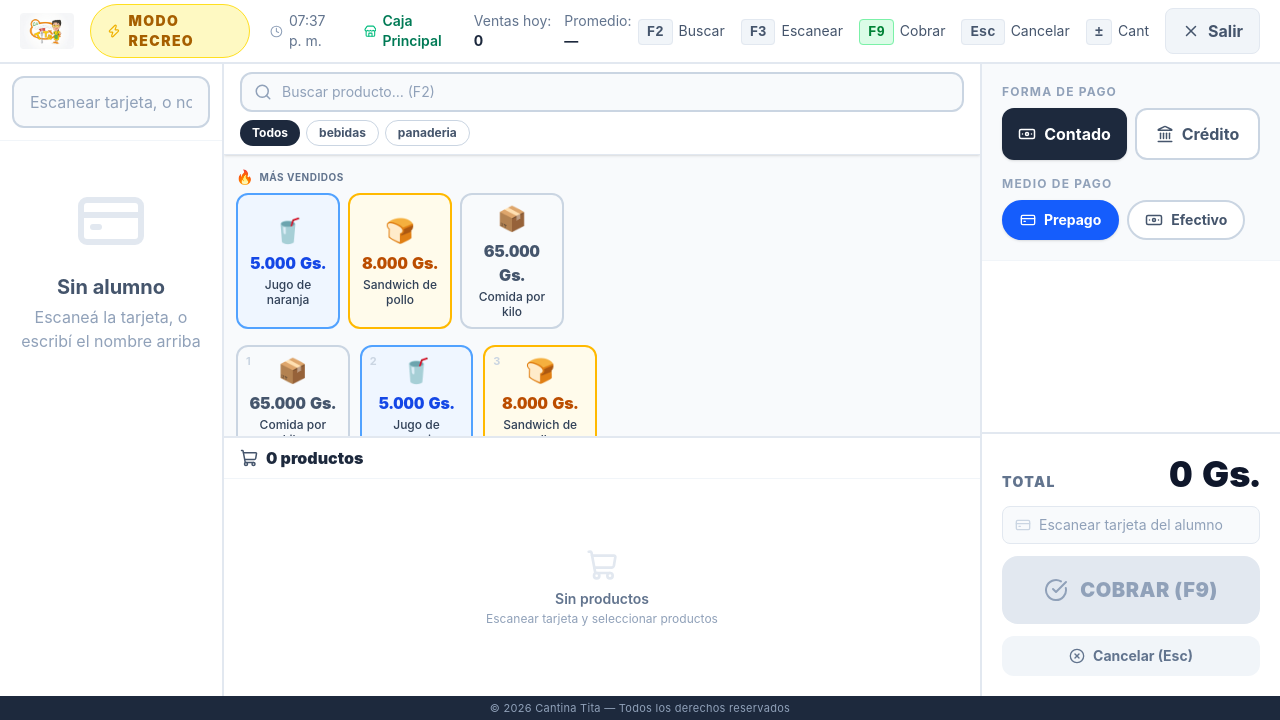
Test: ModoRecreo — productos por peso (Kg) › permite escribir una cantidad decimal ("0,250") y recalcula el total
Expected: the text "Jugo de naranja" below "Más vendidos" is shown, [265,277,311,307]
Click the button "📦 65.000 Gs. Comida por kilo" at (512, 261), box [460,193,564,329]
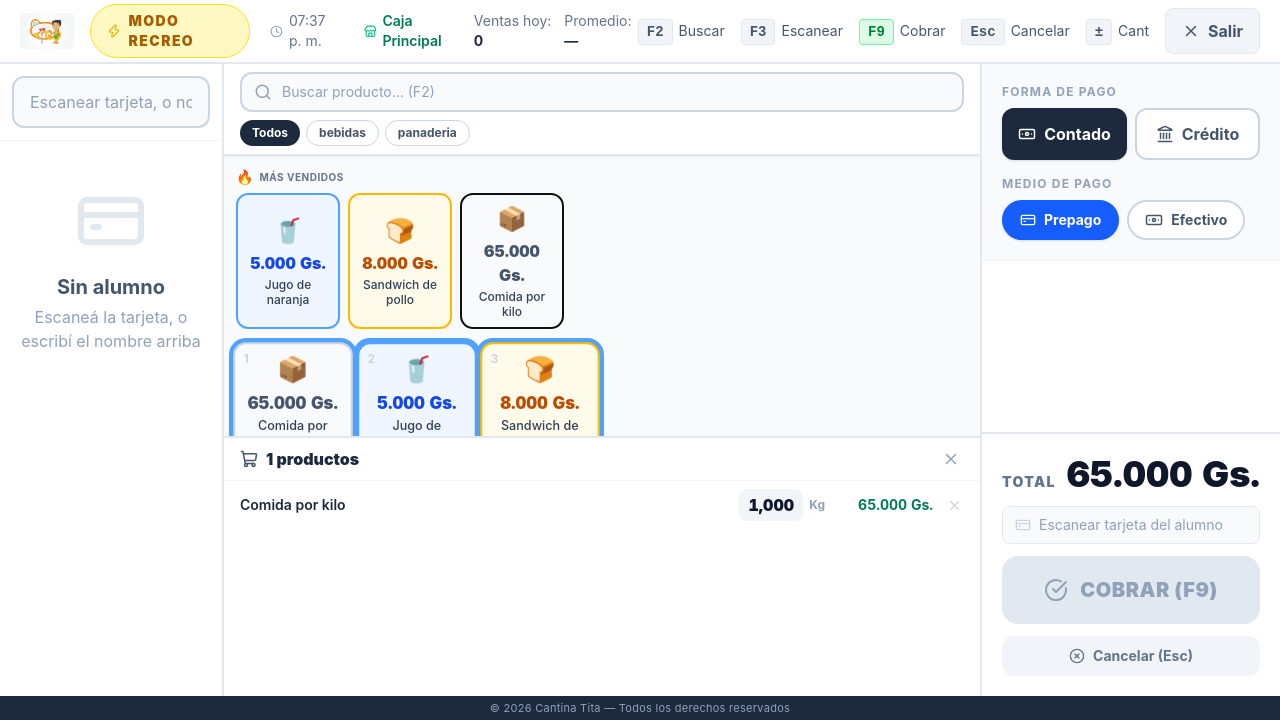
Replace the text in the field showing "1,000" with "0,250" at (771, 505), box [739,489,803,521]
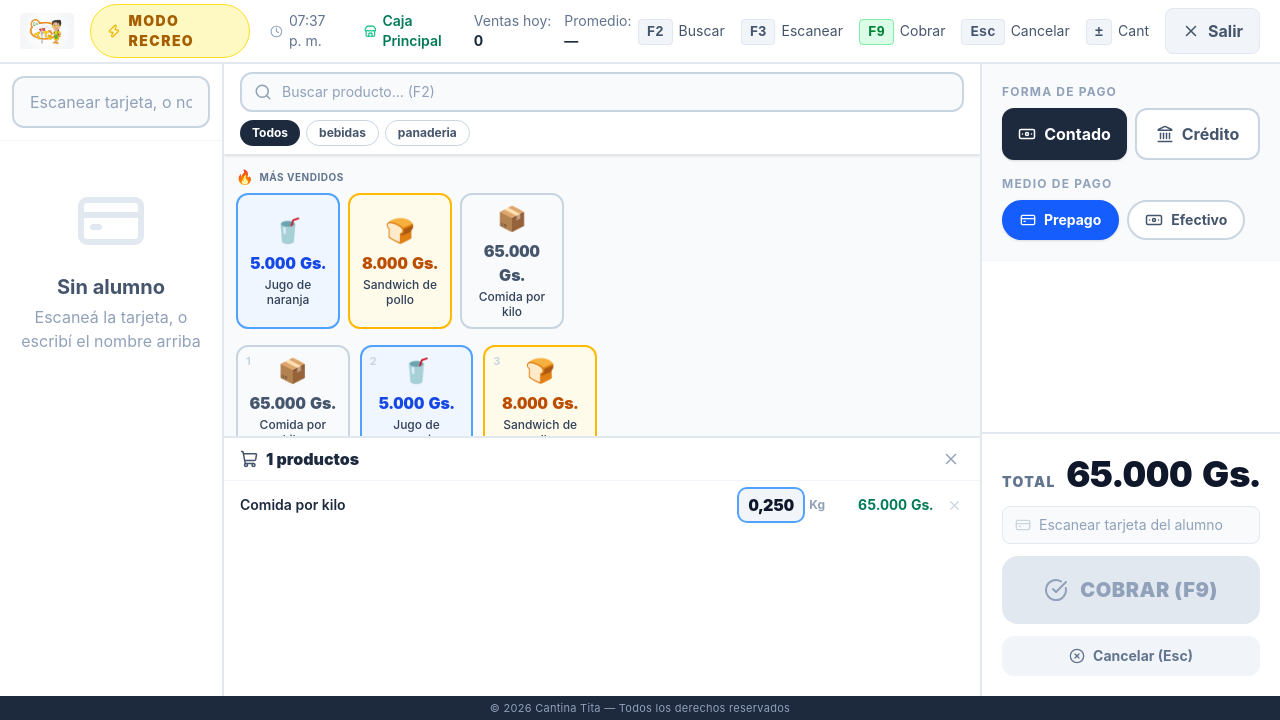
Press Tab
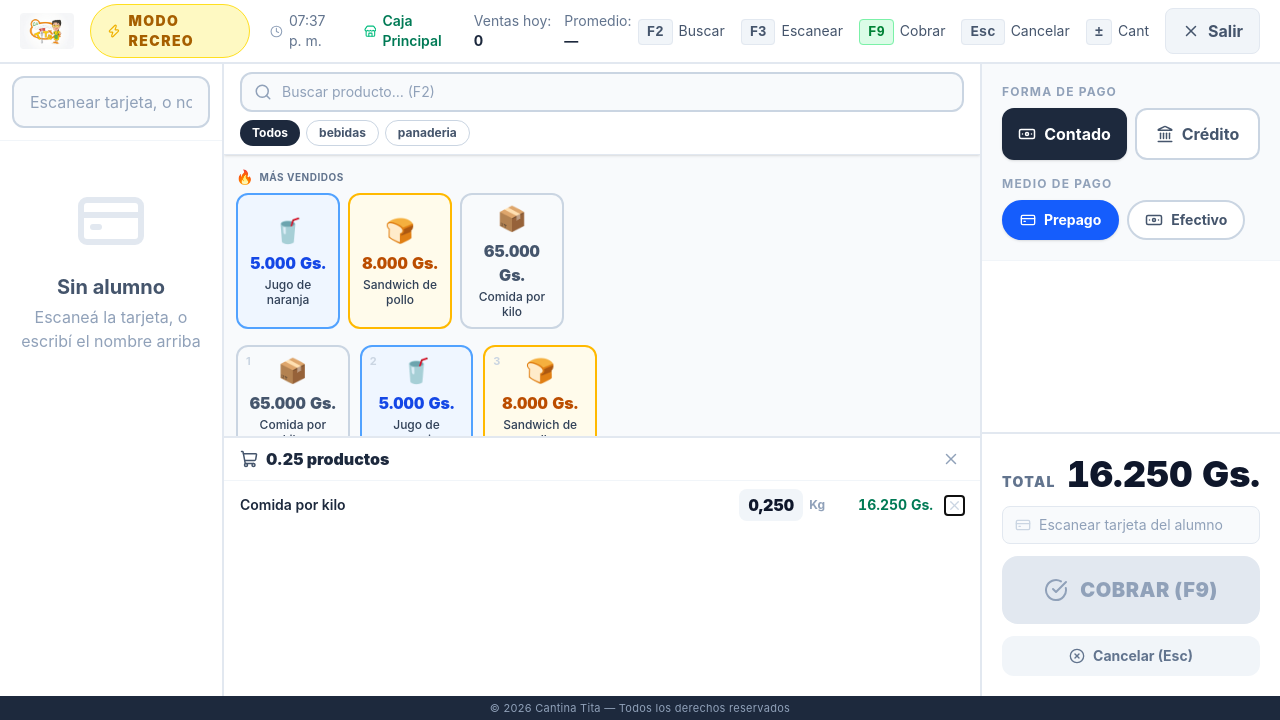
Now the text "16.250 Gs." next to "Kg" is shown, box [858,496,933,513]
